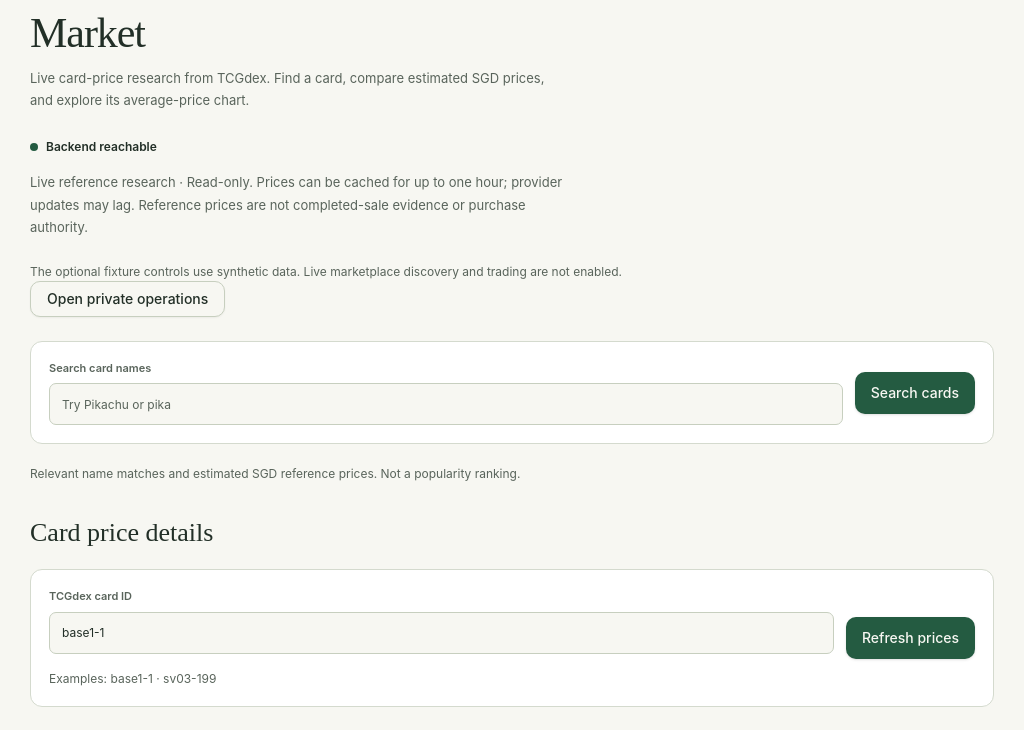
Test: ignores late card responses after a new selection, including transports that ignore abort
This screenshot has width=1024, height=730.
Expected: the text "Backend reachable" is shown, x1=30 y1=140 x2=157 y2=154
Step 1. Submit the form named "Price lookup", box x1=30 y1=569 x2=994 y2=707
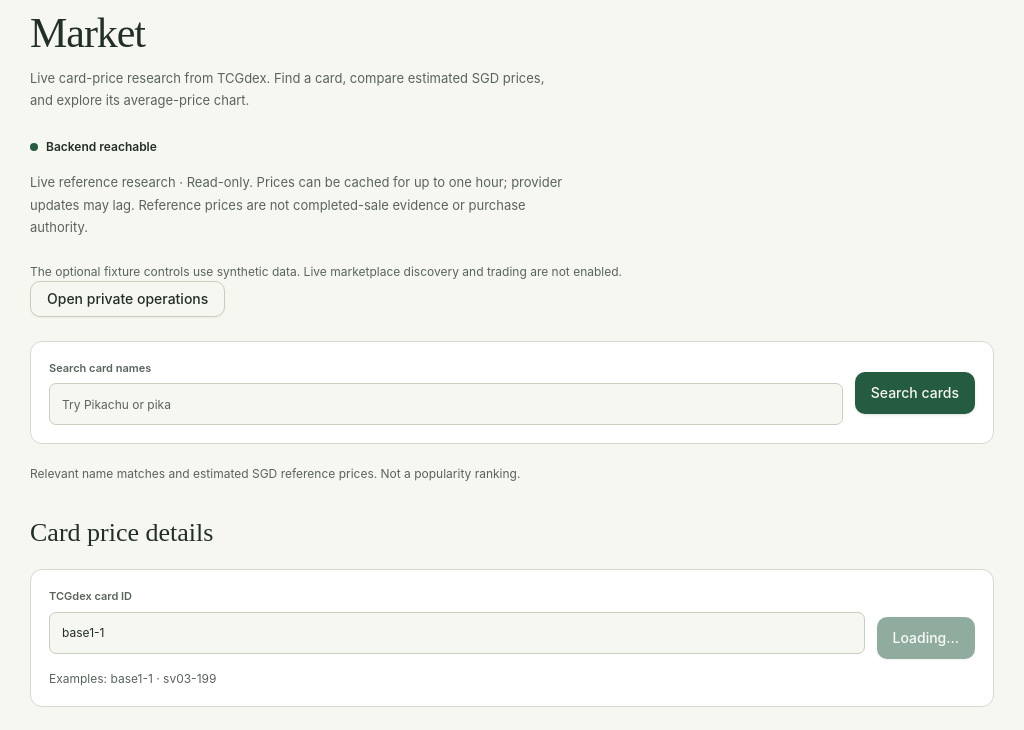
Step 2. Replace the text in the field labelled "TCGdex card ID" with "sv03-199" → (457, 633), box x1=49 y1=612 x2=864 y2=654
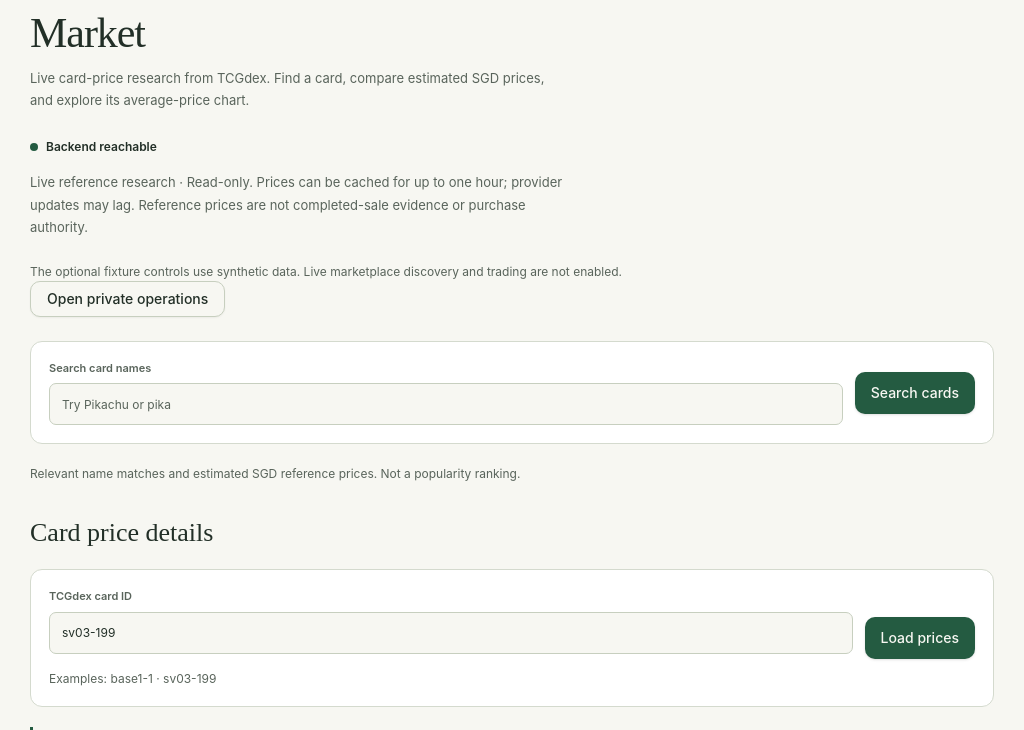
Step 3. Submit the form named "Price lookup", box x1=30 y1=569 x2=994 y2=707
(page scrolled)
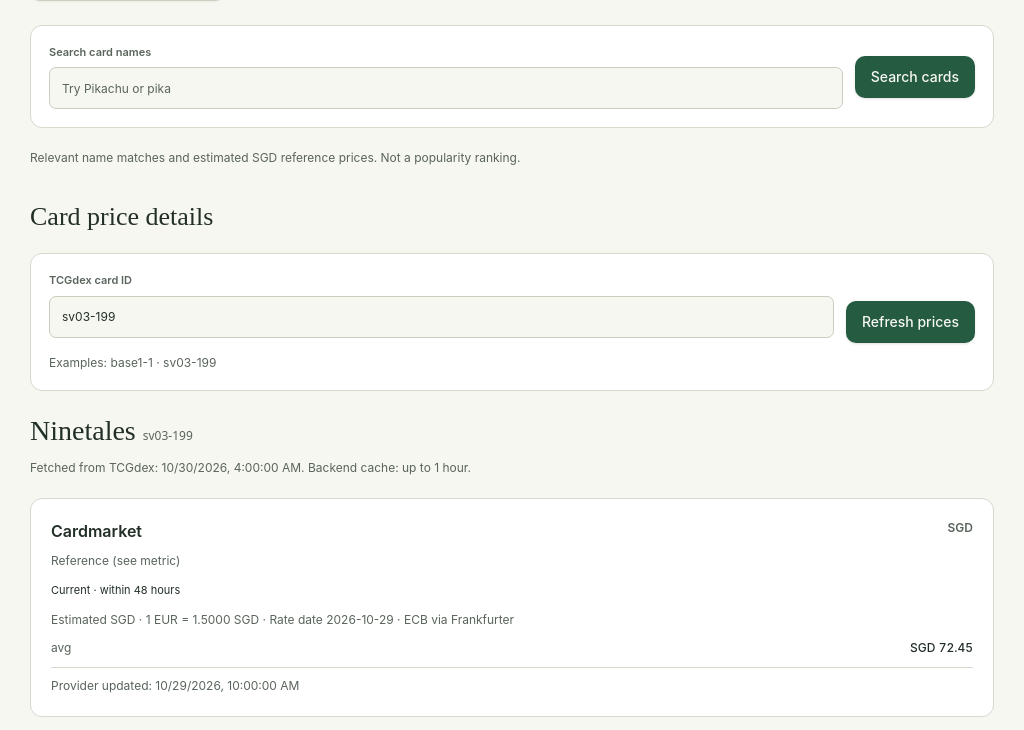
Expected: the heading "Ninetales sv03-199" is shown, x1=30 y1=415 x2=193 y2=446
